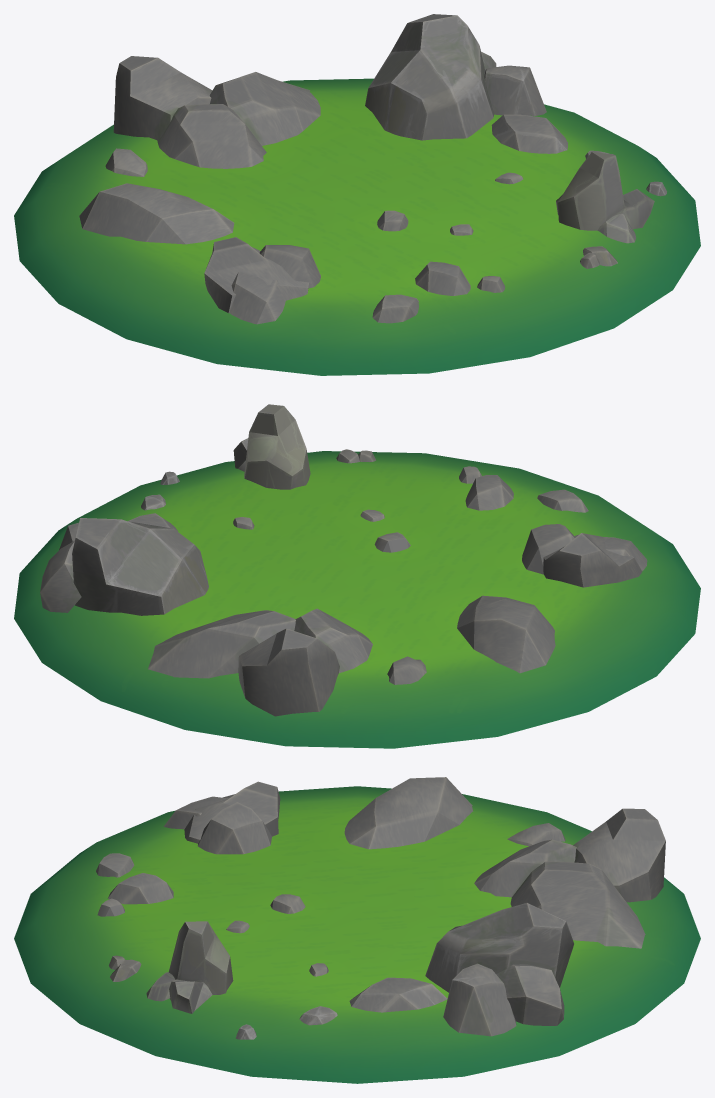
The model's file is rock.glb.
3 views of the same model, one above another, from view 1: azimuth 30°, elevation 25°; view 2: azimuth 150°, elevation 25°; view 3: azimuth 270°, elevation 25° (orthographic).
Visible parts, largest first — view 1: Object_2, Object_4; view 2: Object_2, Object_4; view 3: Object_2, Object_4.
Boxes of the visible parts, x1,y1,x2,y2 form: Object_2: (14, 78, 700, 375); Object_4: (79, 14, 666, 324); Object_2: (14, 451, 700, 748); Object_4: (40, 404, 647, 716); Object_2: (14, 786, 700, 1083); Object_4: (96, 777, 665, 1039).
Bounding box in the file's own units: 4.65 × 0.8293 × 4.65.
2 materials, 2 textured.
